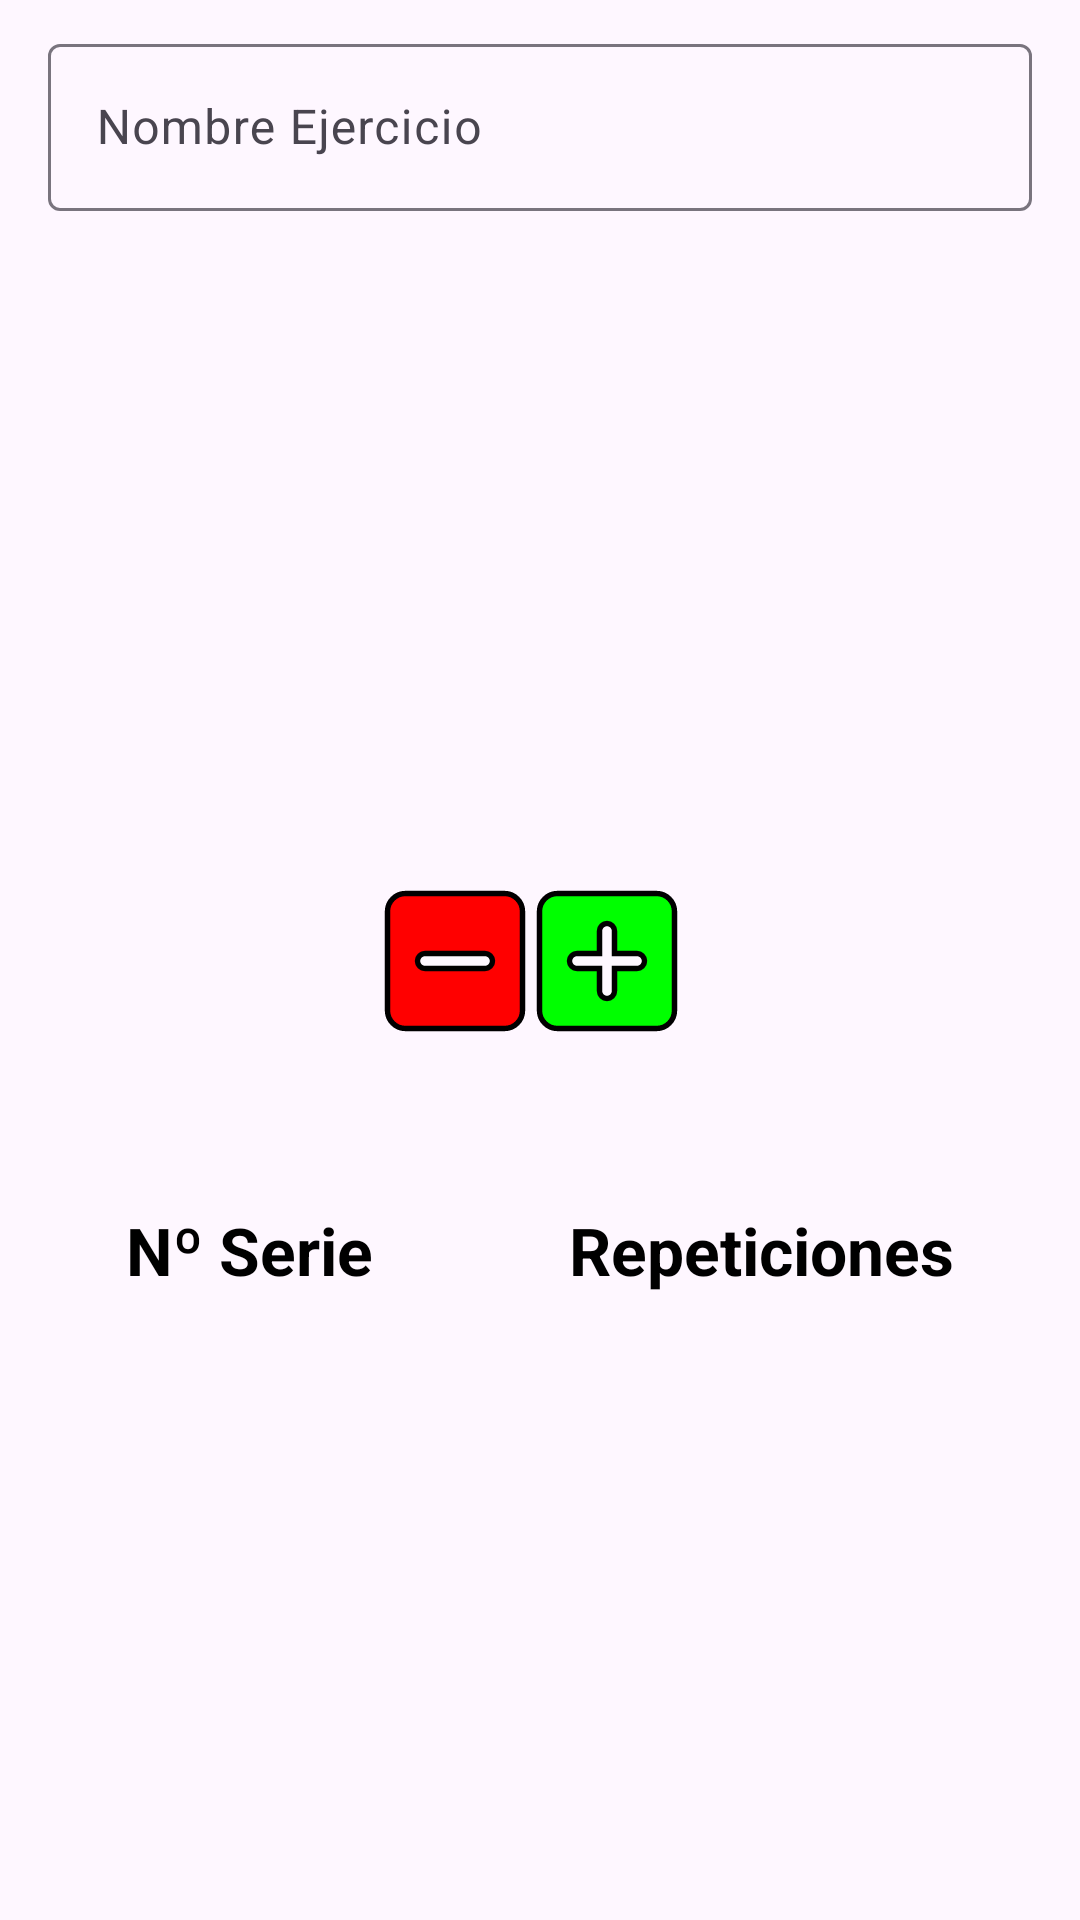

Where icons sit on this 1080px x 1920px app screen, as bbox=(x1, y1, x2, y2):
decrement: bbox=(384, 890, 526, 1032)
increment: bbox=(536, 890, 678, 1032)
